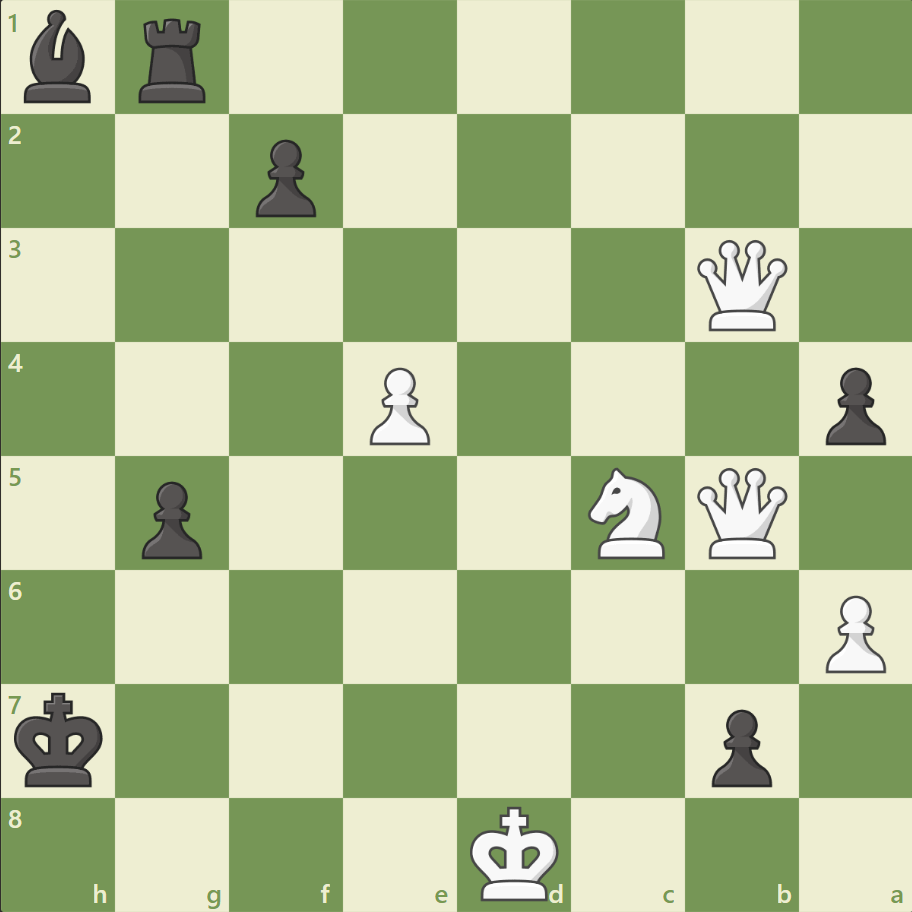K: (465, 798, 565, 906)
N: (579, 461, 676, 564)
P: (815, 586, 889, 677), (361, 359, 435, 450)
Q: (691, 463, 790, 562), (691, 236, 790, 335)
b: (17, 6, 101, 109)
k: (11, 685, 111, 793)
p: (701, 700, 776, 791), (133, 473, 208, 564), (247, 132, 322, 223), (815, 359, 889, 450)
r: (133, 12, 215, 109)
